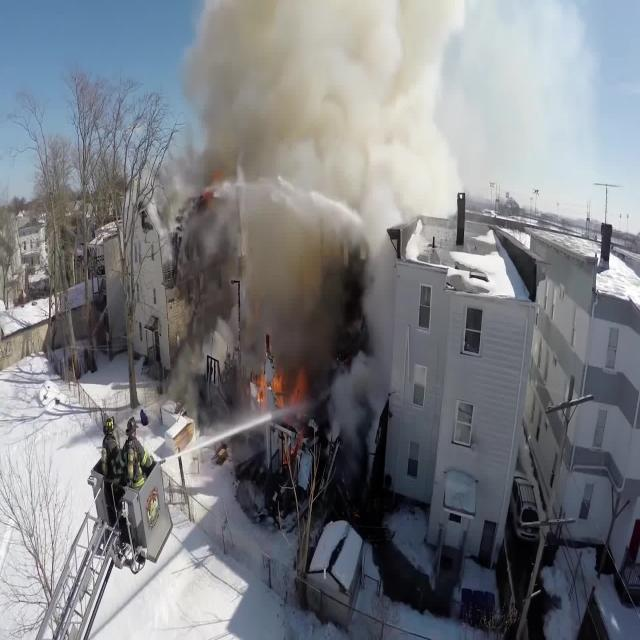Fire: (252, 366, 315, 451)
Smoke: (186, 0, 467, 347)
